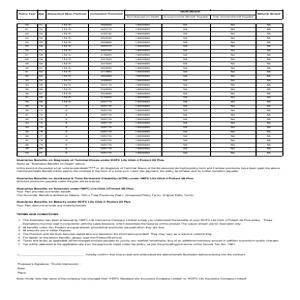table: (17, 24, 285, 157), (17, 9, 285, 18)
text: (16, 212, 279, 244), (17, 260, 249, 282), (16, 159, 280, 174), (16, 187, 196, 197), (16, 176, 195, 182), (16, 199, 133, 207)
